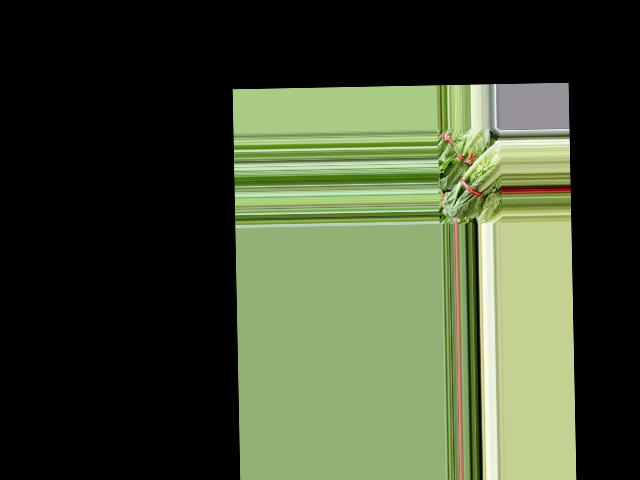lettuce: (440, 141, 502, 220)
